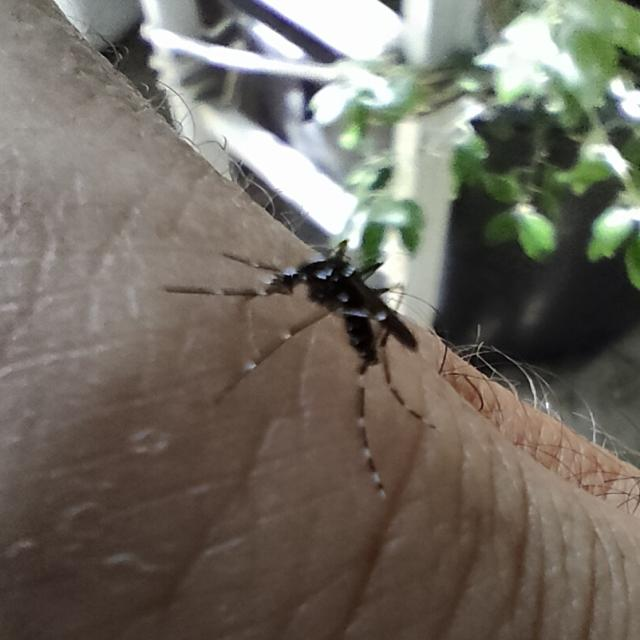albopictus: (160, 169, 561, 482)
